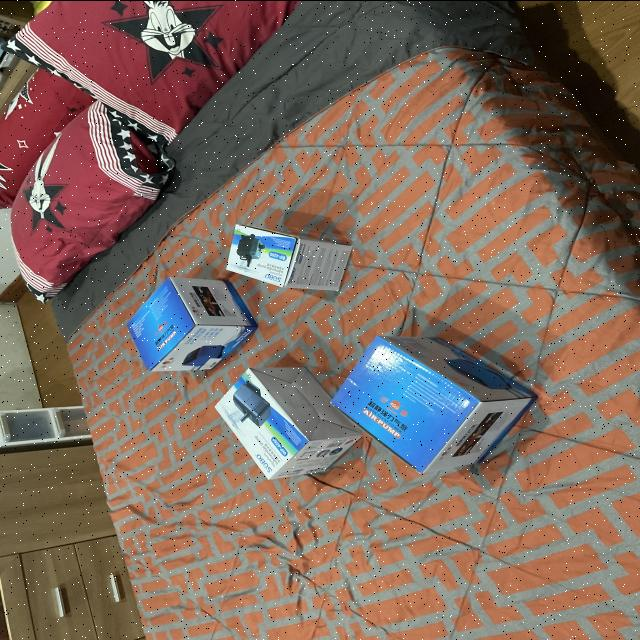SOBO_WP_4200: (207, 359, 361, 485), (220, 210, 372, 294)
YAMANO_LPP_20: (332, 313, 547, 481), (128, 266, 258, 378)
